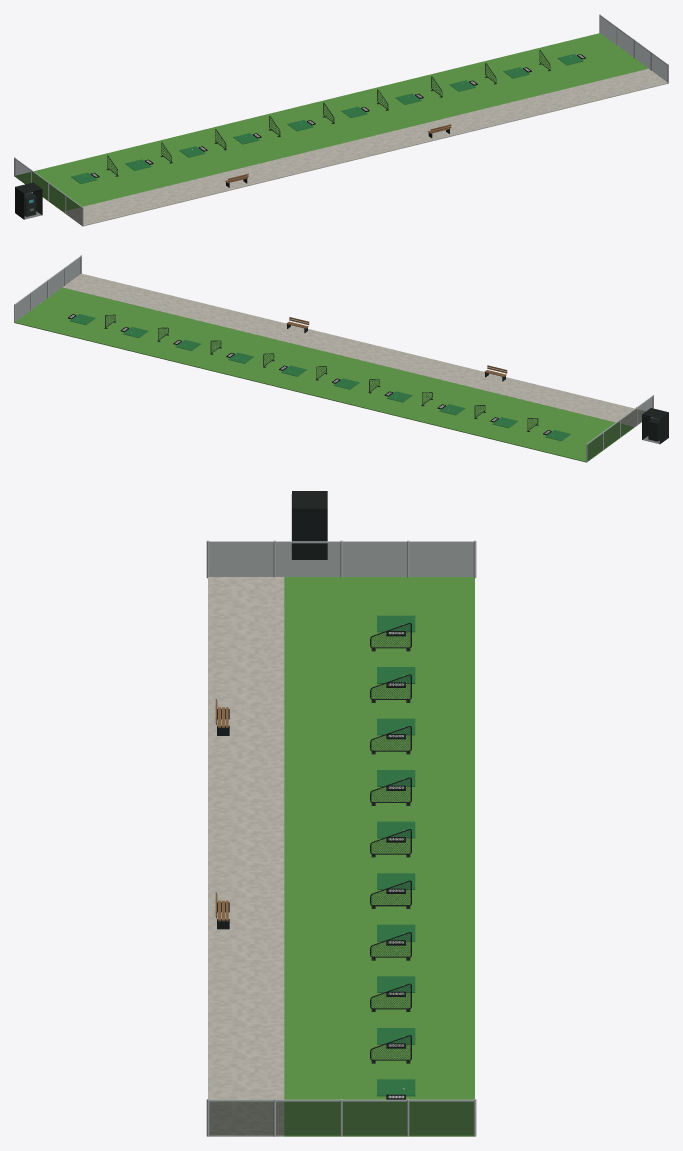
File: driving_range_l1.gltf
3 renders of one model, top to bottom at view 1: azimuth 30°, elevation 25°; view 2: azimuth 150°, elevation 25°; view 3: azimuth 270°, elevation 25°, orthographic. The views are drawn at different scales.
Visible parts, largest first — view 1: BASE; view 2: BASE; view 3: BASE.
Part boxes in pixels (bbox=[...]): BASE: bbox=[14, 14, 668, 226]; BASE: bbox=[14, 255, 668, 462]; BASE: bbox=[206, 491, 476, 1136].
Size of the model in its own units: 55.37 by 2.24 by 10.6.
13 materials, 1 textured.
